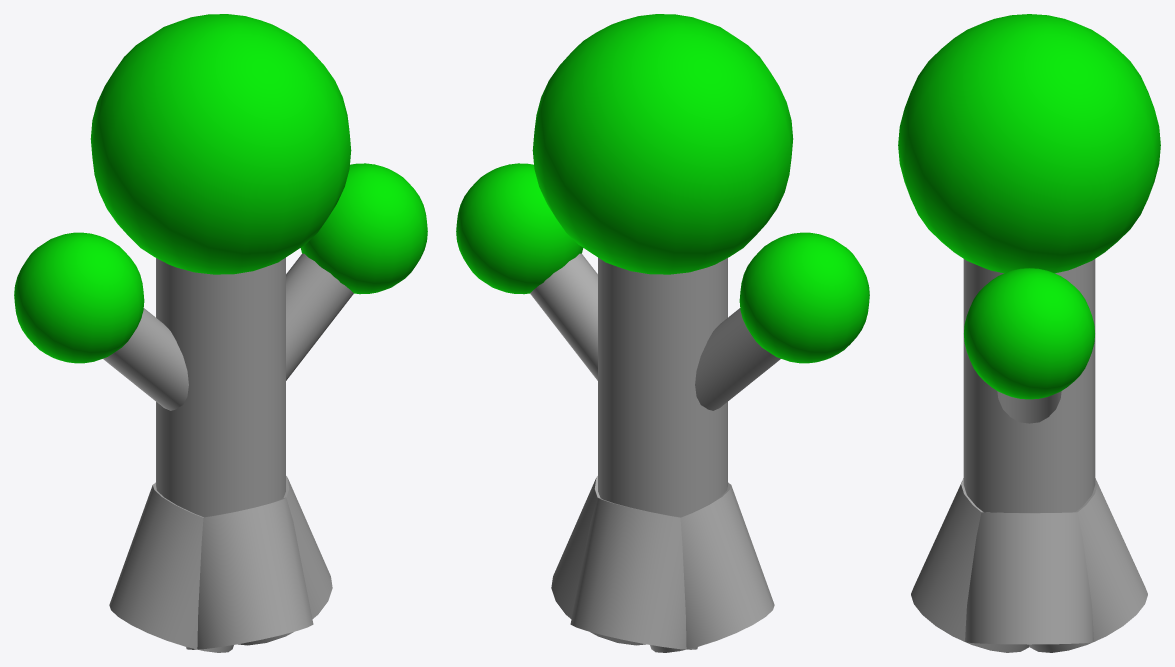
Rendered from Tree.fbx.
3 renders of one model, left to right at view 1: azimuth 30°, elevation 25°; view 2: azimuth 150°, elevation 25°; view 3: azimuth 270°, elevation 25°, orthographic.
Parts seen in each view (by area): view 1: pSphere3, pCylinder5, pCylinder1, pSphere2, pSphere1, pCylinder4, pCylinder7, pCylinder6, pCylinder3; view 2: pSphere3, pCylinder5, pCylinder2, pSphere2, pSphere1, pCylinder4, pCylinder7, pCylinder6, pCylinder3; view 3: pSphere3, pCylinder5, pCylinder3, pSphere1, pCylinder2, pCylinder1, pCylinder6.
Boxes of the visible parts, bbox=[...] form: pSphere3: bbox=[90, 14, 351, 274]; pCylinder5: bbox=[156, 257, 285, 517]; pCylinder1: bbox=[186, 497, 313, 649]; pSphere2: bbox=[14, 232, 144, 363]; pSphere1: bbox=[300, 163, 427, 294]; pCylinder4: bbox=[109, 483, 233, 652]; pCylinder7: bbox=[103, 308, 188, 410]; pCylinder6: bbox=[286, 253, 353, 380]; pCylinder3: bbox=[238, 476, 332, 645]; pSphere3: bbox=[532, 14, 793, 274]; pCylinder5: bbox=[598, 257, 727, 517]; pCylinder2: bbox=[570, 497, 697, 649]; pSphere2: bbox=[739, 232, 869, 363]; pSphere1: bbox=[456, 163, 583, 294]; pCylinder4: bbox=[650, 483, 774, 652]; pCylinder7: bbox=[695, 308, 780, 410]; pCylinder6: bbox=[530, 253, 597, 380]; pCylinder3: bbox=[551, 476, 645, 645]; pSphere3: bbox=[898, 14, 1160, 273]; pCylinder5: bbox=[963, 259, 1095, 512]; pCylinder3: bbox=[965, 512, 1093, 644]; pSphere1: bbox=[963, 268, 1095, 399]; pCylinder2: bbox=[1029, 478, 1147, 652]; pCylinder1: bbox=[911, 478, 1029, 652]; pCylinder6: bbox=[997, 391, 1061, 423].
Bounding box in the file's own units: 7 × 10.31 × 4.
